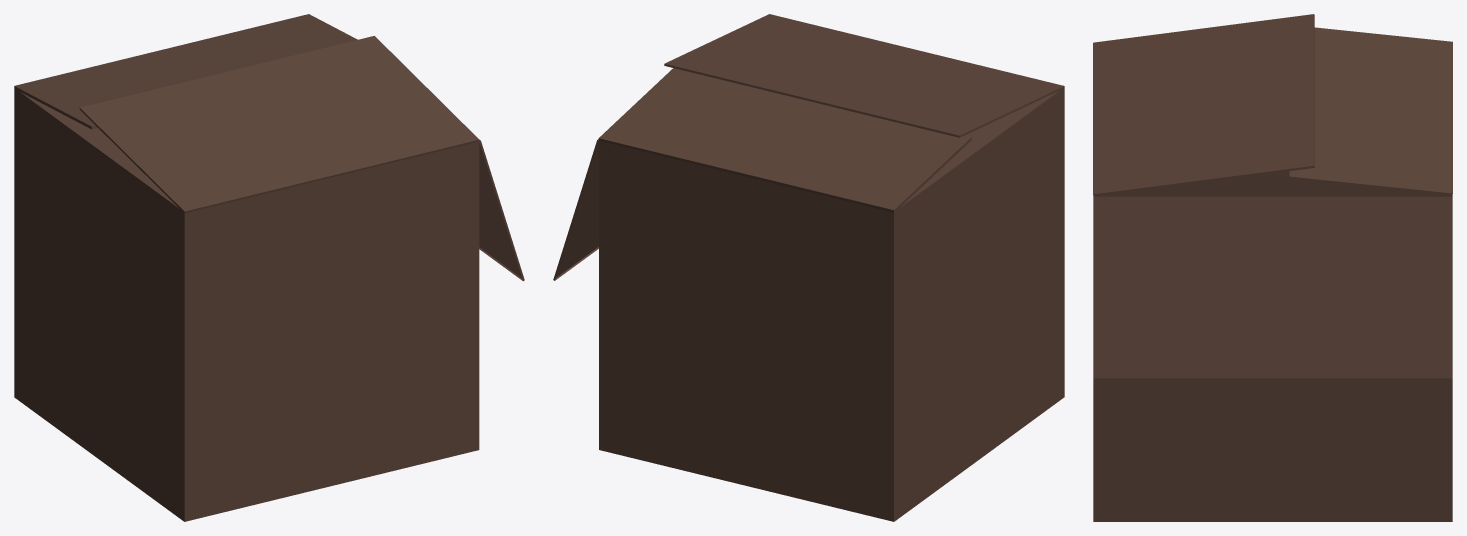
The model's file is Boxhalfclosed_01.fbx.
The picture shows the model from 3 angles, left to right: view 1: azimuth 30°, elevation 25°; view 2: azimuth 150°, elevation 25°; view 3: azimuth 270°, elevation 25°; orthographic projection. The views are drawn at different scales.
Visible parts, largest first — view 1: pCube1; view 2: pCube1; view 3: pCube1.
Part boxes in pixels (bbox=[...]): pCube1: bbox=[14, 14, 524, 521]; pCube1: bbox=[553, 14, 1064, 521]; pCube1: bbox=[1093, 14, 1452, 521].
Size of the model in its own units: 115 by 109 by 100.
